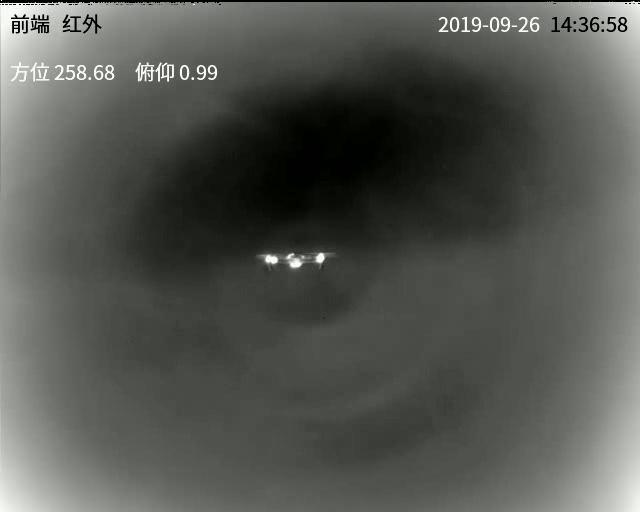DRONE: (262, 251, 326, 275)
